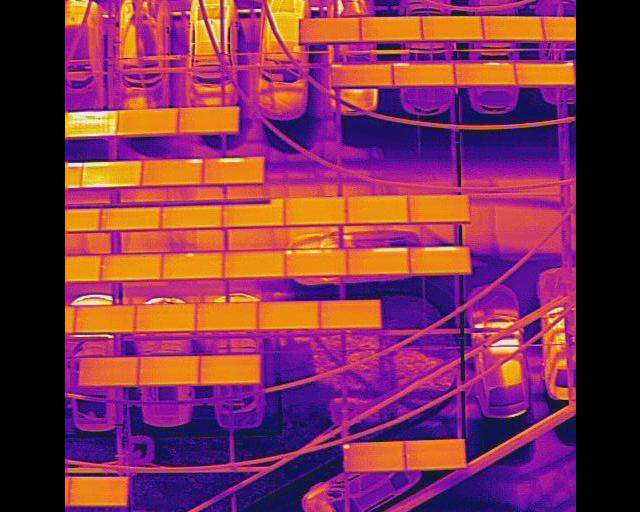Cell: (343, 442, 403, 472), (160, 253, 226, 280)
No-Anomaly: (194, 302, 257, 333), (404, 439, 465, 471), (319, 300, 380, 331), (67, 476, 128, 507), (199, 355, 260, 385), (99, 253, 162, 282), (136, 357, 199, 386), (345, 196, 408, 225), (257, 302, 320, 331), (282, 198, 347, 226), (407, 195, 468, 224), (116, 109, 179, 137), (72, 306, 135, 334), (358, 16, 422, 43), (134, 304, 195, 332), (222, 252, 285, 279), (219, 203, 285, 228), (78, 359, 139, 386), (299, 18, 360, 45), (420, 16, 483, 42), (158, 206, 223, 231), (98, 207, 162, 232), (176, 108, 238, 133), (481, 17, 544, 41), (331, 64, 394, 88), (454, 63, 516, 86), (515, 63, 575, 86)
Unclassified: (284, 249, 348, 278), (138, 159, 206, 186), (407, 247, 470, 276), (201, 157, 263, 185), (80, 161, 144, 188), (346, 248, 407, 276), (64, 110, 117, 138), (391, 63, 454, 86)
